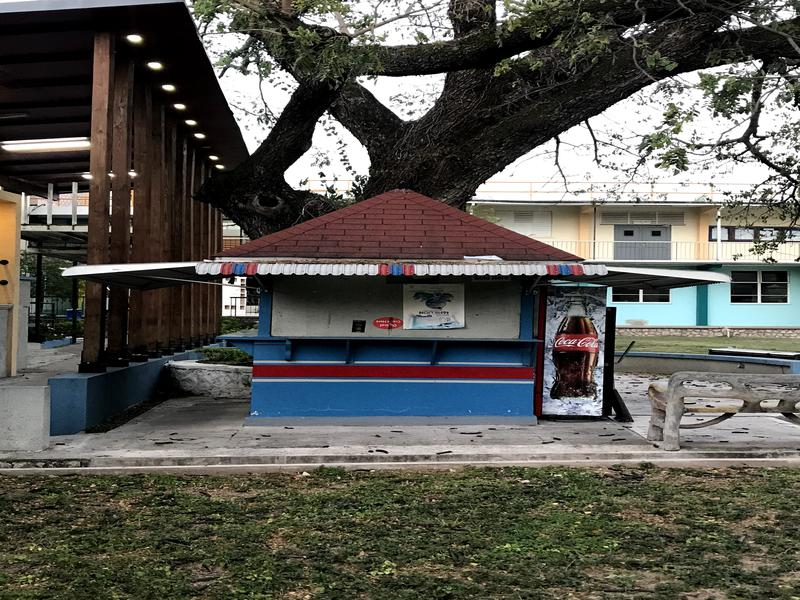18.0051667_-76.74944412_librarystall: (197, 179, 689, 436)
